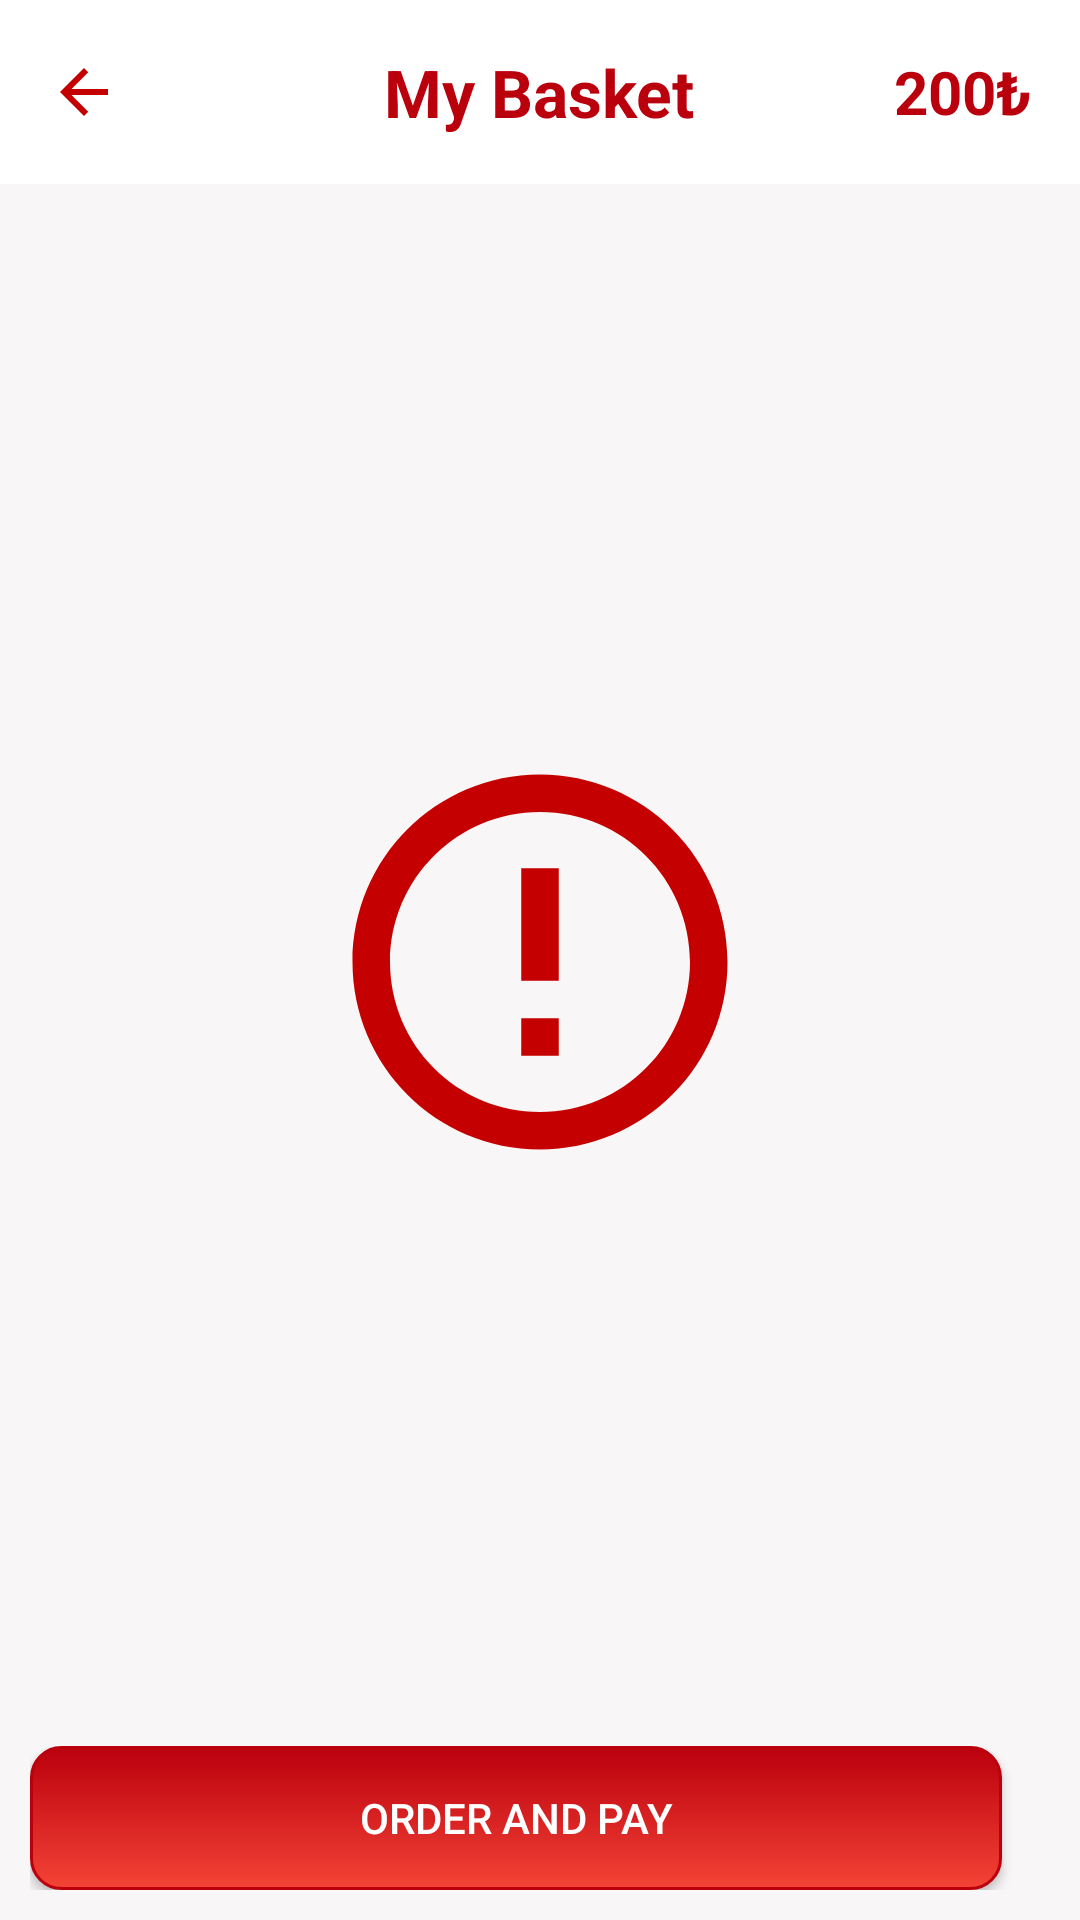

Where to tap for icons on this 1080px×1920px app screen, as point (x, y):
back button: point (84, 92)
